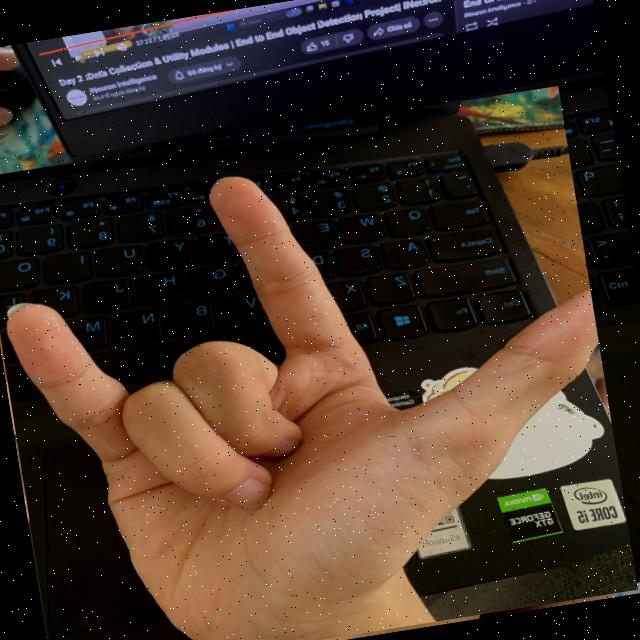love: (0, 86, 638, 640)
